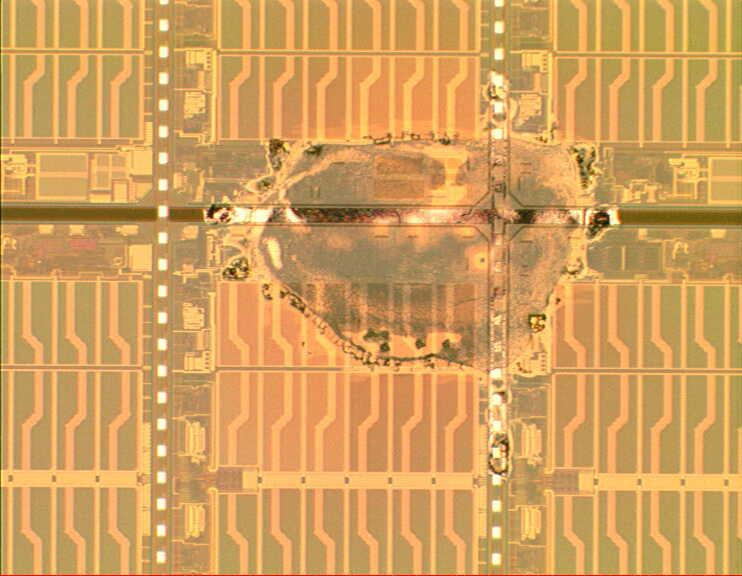BLOCK ETCH: (198, 70, 635, 478)
